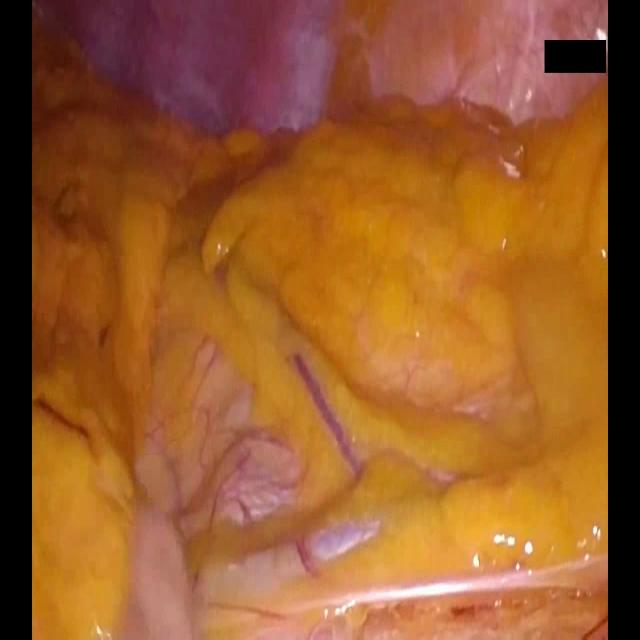surgical-area: (31, 0, 609, 639)
